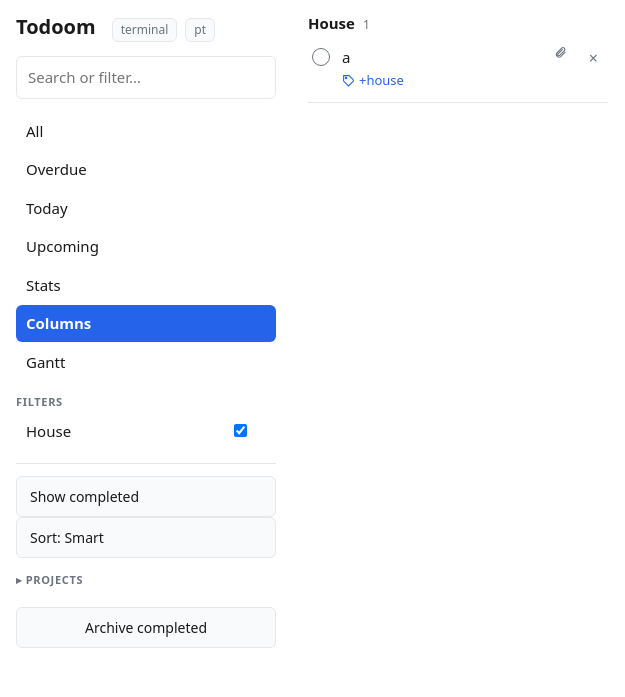
Test: columns › completes a task from a column
Click the checkbox with class "task__check": [321, 56] box 312,48 -> 330,66
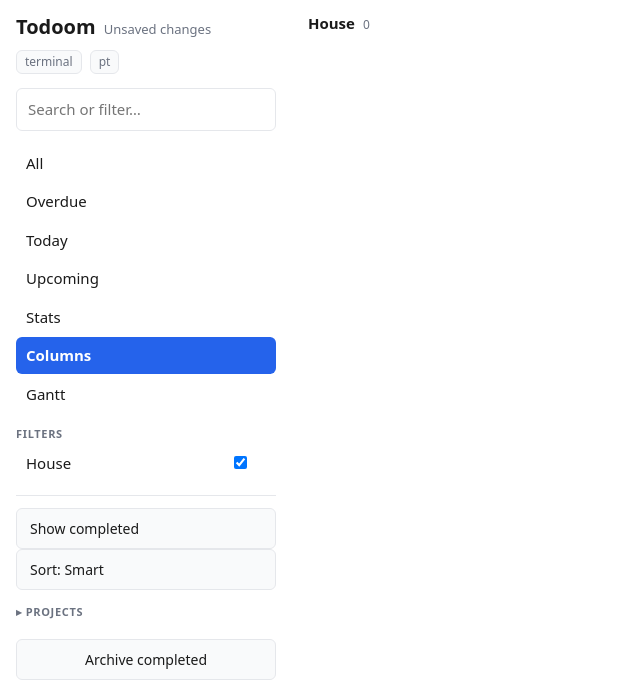
Check: the text with class "column__count" reads "0", box 363,16 -> 370,33
